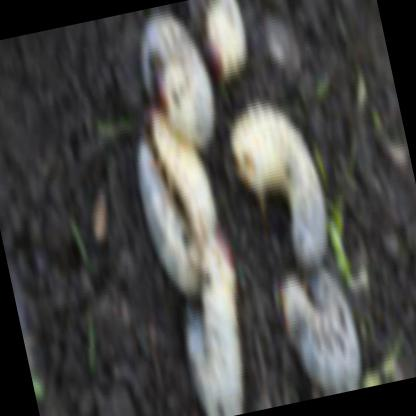root grubs: (231, 103, 329, 283), (139, 113, 215, 294)
